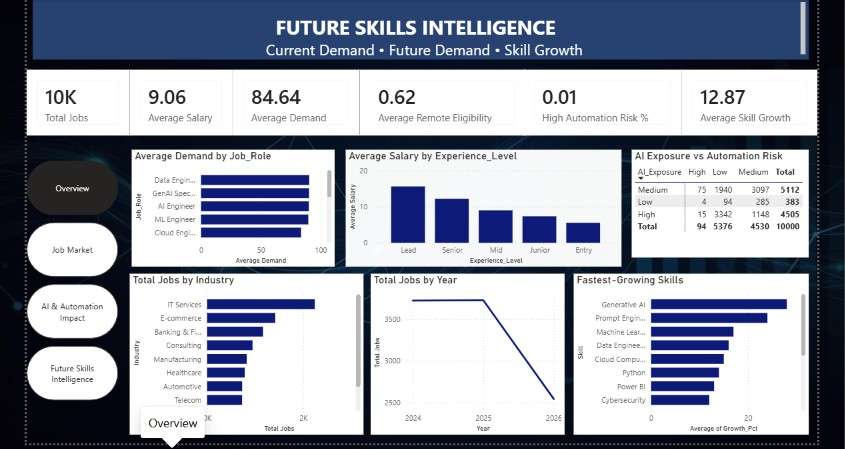

The page's visual inventory and layout, read from the dashboard file:
{"tool":"powerbi","page":{"name":"Overview","canvas":[1280,720],"ordinal":0},"visuals":[{"type":"textbox","box":[9.7,0,1256.5,98.8],"z":0},{"type":"cardVisual","fields":{"Data":["AI_Jobs.Total Jobs"]},"box":[0,115,166.8,106.9],"z":1000},{"type":"cardVisual","fields":{"Data":["AI_Jobs.Average Salary"]},"box":[166.8,115,166.8,106.9],"z":2000},{"type":"cardVisual","fields":{"Data":["AI_Jobs.Average Demand"]},"box":[333.6,115,205.6,106.9],"z":3000},{"type":"cardVisual","fields":{"Data":["AI_Jobs.Average Remote Eligibility"]},"box":[539.2,115,268.8,106.9],"z":4000},{"type":"cardVisual","fields":{"Data":["AI_Jobs.Average Skill Growth"]},"box":[1060.6,115,220.2,106.9],"z":5000},{"type":"cardVisual","fields":{"Data":["AI_Jobs.High Automation Risk %"]},"box":[804.8,115,255.8,106.9],"z":6000},{"type":"lineChart","fields":{"Category":["AI_Jobs.Year"],"Y":["AI_Jobs.Total Jobs"]},"box":[557,445.3,314.1,260.7],"z":7000},{"type":"clusteredBarChart","fields":{"Category":["AI_Jobs.Job_Role"],"Y":["AI_Jobs.Average Demand"]},"box":[170,244.5,328.7,189.4],"z":8000},{"type":"columnChart","fields":{"Category":["AI_Jobs.Experience_Level"],"Y":["AI_Jobs.Average Salary"]},"box":[516.5,244.5,446.9,189.4],"z":9000},{"type":"barChart","fields":{"Category":["AI_Jobs.Industry"],"Y":["AI_Jobs.Total Jobs"]},"box":[166.8,445.3,378.9,260.7],"z":10000},{"type":"pivotTable","title":"AI Exposure vs Automation Risk","fields":{"Rows":["AI_Jobs.AI_Exposure"],"Columns":["AI_Jobs.Automation_Risk"],"Values":["AI_Jobs.Total Jobs"]},"box":[979.6,244.5,286.6,174.9],"z":11000},{"type":"barChart","title":"Fastest-Growing Skills","fields":{"Category":["Future_Skills.Skill"],"Y":["Avg(Future_Skills.Growth_Pct)"]},"box":[885.7,445.3,380.5,260.7],"z":12000},{"type":"pageNavigator","box":[0,262.3,149,388.6],"z":13000}]}

Visuals, with their boxes in screenshot pixels (x1, y1, x2, y2):
textbox: (32, 0, 805, 59)
cardVisual - AI_Jobs.Total Jobs: (26, 69, 129, 134)
cardVisual - AI_Jobs.Average Salary: (129, 69, 232, 134)
cardVisual - AI_Jobs.Average Demand: (232, 69, 358, 134)
cardVisual - AI_Jobs.Average Remote Eligibility: (358, 69, 523, 134)
cardVisual - AI_Jobs.Average Skill Growth: (679, 69, 814, 134)
cardVisual - AI_Jobs.High Automation Risk %: (521, 69, 679, 134)
lineChart - AI_Jobs.Year x AI_Jobs.Total Jobs: (369, 272, 562, 432)
clusteredBarChart - AI_Jobs.Job_Role x AI_Jobs.Average Demand: (131, 148, 333, 265)
columnChart - AI_Jobs.Experience_Level x AI_Jobs.Average Salary: (344, 148, 619, 265)
barChart - AI_Jobs.Industry x AI_Jobs.Total Jobs: (129, 272, 362, 432)
"AI Exposure vs Automation Risk" pivotTable: (629, 148, 805, 256)
"Fastest-Growing Skills" barChart: (571, 272, 805, 432)
pageNavigator: (26, 159, 118, 398)
